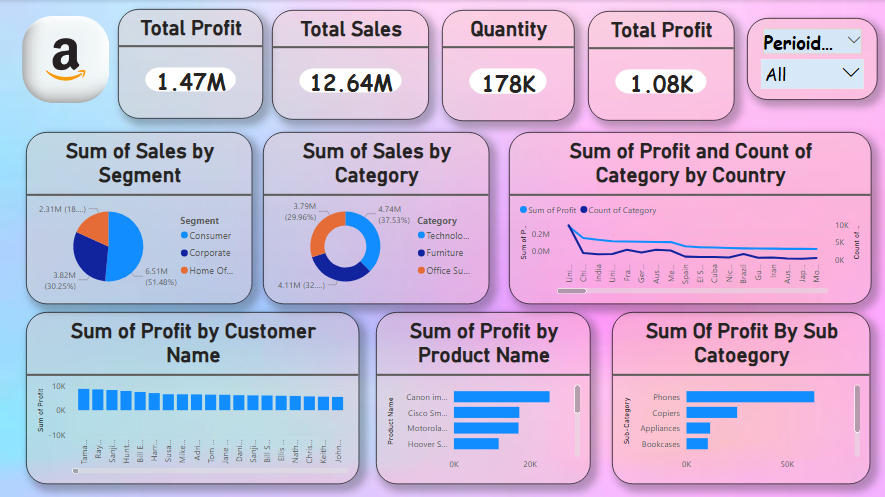

What the dashboard file says about the page in this screenshot:
{"tool":"powerbi","page":{"name":"Amanzon_superstore_dashboard","canvas":[1280,720],"ordinal":0},"visuals":[{"type":"image","box":[0,0,189.2,170.8],"z":0},{"type":"slicer","fields":{"Values":["Orders.Order Date.Variation.Date Hierarchy.Year","Orders.Order Date.Variation.Date Hierarchy.Quarter","Orders.Order Date.Variation.Date Hierarchy.Month","Orders.Order Date.Variation.Date Hierarchy.Day"]},"box":[1075.4,26.2,187.7,118.5],"z":1000},{"type":"cardVisual","title":"Total Profit","fields":{"Data":["Sum(Orders.Profit)"]},"box":[169.2,12.3,209.2,158.5],"z":2000},{"type":"cardVisual","title":"Total Profit","fields":{"Data":["CountNonNull(Returns.Column1)"]},"box":[846.2,15.4,210.8,158.5],"z":3000},{"type":"cardVisual","title":"Total Sales","fields":{"Data":["Sum(Orders.Sales)"]},"box":[392.3,13.8,226.2,158.5],"z":4000},{"type":"cardVisual","title":"Quantity","fields":{"Data":["Sum(Orders.Quantity)"]},"box":[636.9,13.8,190.8,160],"z":5000},{"type":"pieChart","fields":{"Category":["Orders.Segment"],"Y":["Sum(Orders.Sales)"]},"box":[36.9,190.8,326.2,247.7],"z":6000},{"type":"donutChart","fields":{"Y":["Sum(Orders.Sales)"],"Category":["Orders.Category"]},"box":[378.5,190.8,326.2,247.7],"z":7000},{"type":"columnChart","fields":{"Category":["Orders.Customer Name"],"Y":["Sum(Orders.Profit)"]},"box":[36.9,449.2,480,247.7],"z":8000},{"type":"clusteredBarChart","fields":{"Category":["Orders.Product Name"],"Y":["Sum(Orders.Profit)"]},"box":[541.5,449.2,309.2,247.7],"z":9000},{"type":"clusteredBarChart","title":"Sum Of Profit By Sub Catoegory","fields":{"Y":["Sum(Orders.Profit)"],"Category":["Orders.Sub-Category"]},"box":[881.5,449.2,372.3,247.7],"z":10000},{"type":"lineChart","fields":{"Category":["Orders.Country"],"Y":["Sum(Orders.Profit)"],"Y2":["CountNonNull(Orders.Category)"]},"box":[732.3,190.8,521.5,247.7],"z":11000}]}

Visuals, with their boxes in screenshot pixels (x1, y1, x2, y2), scaled from the page's 1280x720 canvas onto the 885x497 screenshot:
image: (0, 0, 131, 118)
slicer - Orders.Order Date.Variation.Date Hierarchy.Year x Orders.Order Date.Variation.Date Hierarchy.Quarter: (744, 18, 873, 100)
"Total Profit" cardVisual: (117, 8, 262, 118)
"Total Profit" cardVisual: (585, 11, 731, 120)
"Total Sales" cardVisual: (271, 10, 428, 119)
"Quantity" cardVisual: (440, 10, 572, 120)
pieChart - Orders.Segment x Sum(Orders.Sales): (26, 132, 251, 303)
donutChart - Sum(Orders.Sales) x Orders.Category: (262, 132, 487, 303)
columnChart - Orders.Customer Name x Sum(Orders.Profit): (26, 310, 357, 481)
clusteredBarChart - Orders.Product Name x Sum(Orders.Profit): (374, 310, 588, 481)
"Sum Of Profit By Sub Catoegory" clusteredBarChart: (609, 310, 867, 481)
lineChart - Orders.Country x Sum(Orders.Profit): (506, 132, 867, 303)
